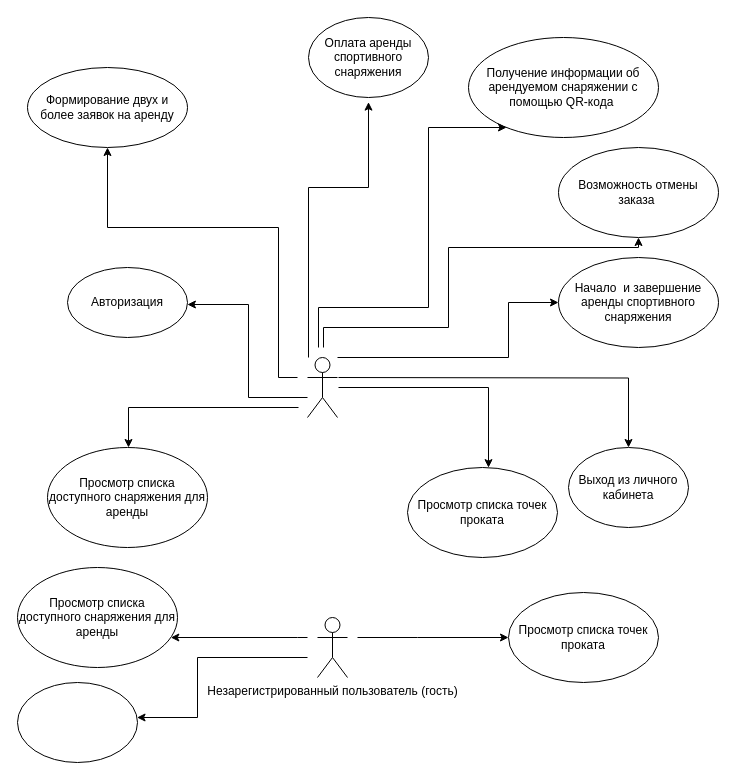
Image size: 736x780. Some labels were removed from this diagram. The centre of each missing label's shape, as x and y in pixels:
"Возможность регистрации" goes at (x=77, y=722).
"Зарегистрированный пользователь" goes at (x=322, y=387).
